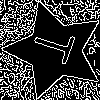T: (30, 25, 86, 69)
